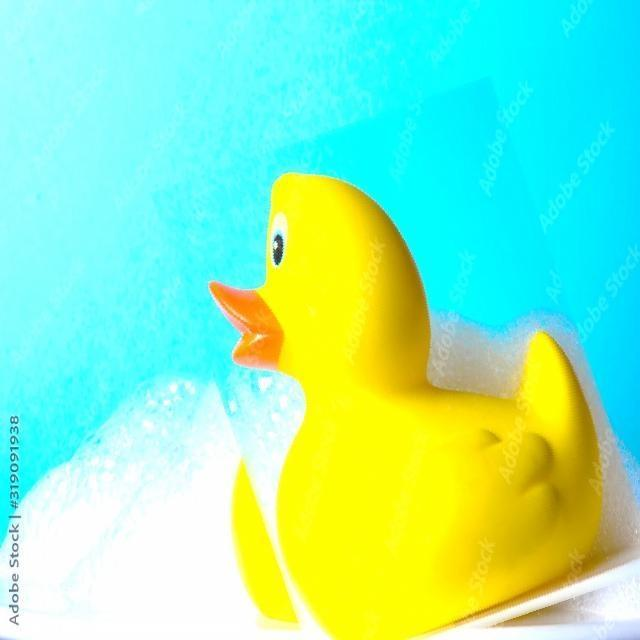rubber-duck: (209, 173, 601, 638)
